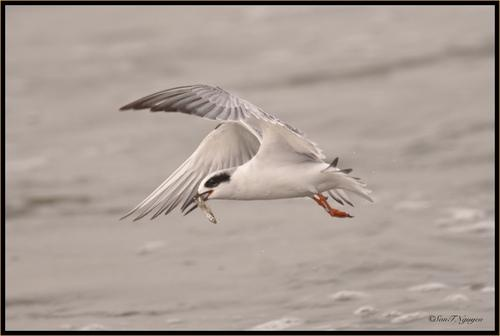bird: (118, 84, 375, 226)
